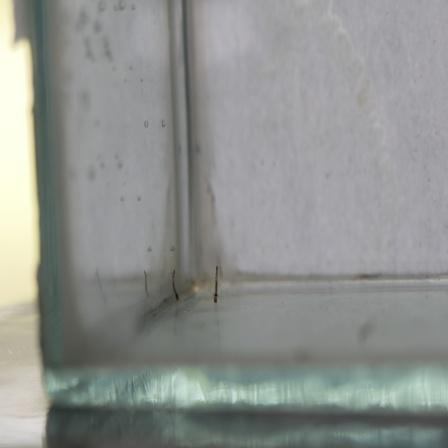Jentik-Nyamuk: (209, 266, 225, 307), (166, 268, 183, 304)
